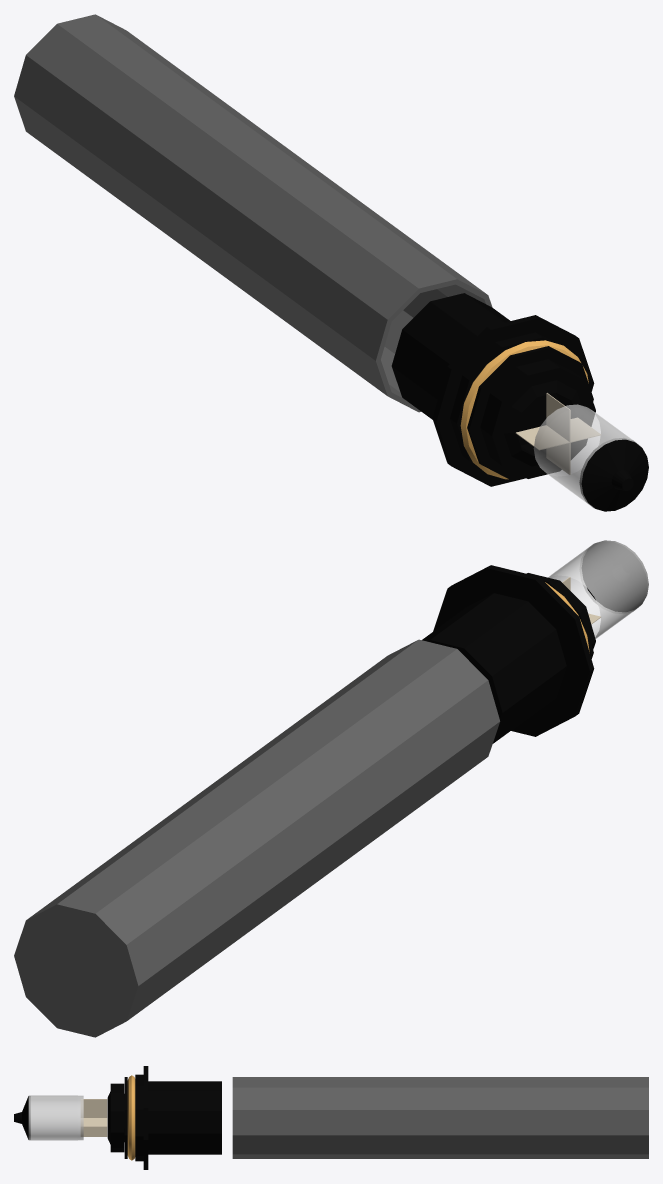
The picture shows the model from 3 angles, top to bottom: view 1: azimuth 30°, elevation 25°; view 2: azimuth 150°, elevation 25°; view 3: azimuth 270°, elevation 25°; orthographic projection. The views are drawn at different scales.
Parts seen in each view (by area): view 1: pCylinder1, pCylinder4; view 2: pCylinder1, pCylinder4; view 3: pCylinder1, pCylinder4.
Boxes of the visible parts, bbox=[...] form: pCylinder1: bbox=[14, 14, 492, 412]; pCylinder4: bbox=[391, 293, 648, 511]; pCylinder1: bbox=[14, 639, 500, 1037]; pCylinder4: bbox=[422, 540, 648, 743]; pCylinder1: bbox=[232, 1077, 648, 1158]; pCylinder4: bbox=[14, 1066, 221, 1169].
Size of the model in its own units: 2.53 by 2.41 by 15.35.
